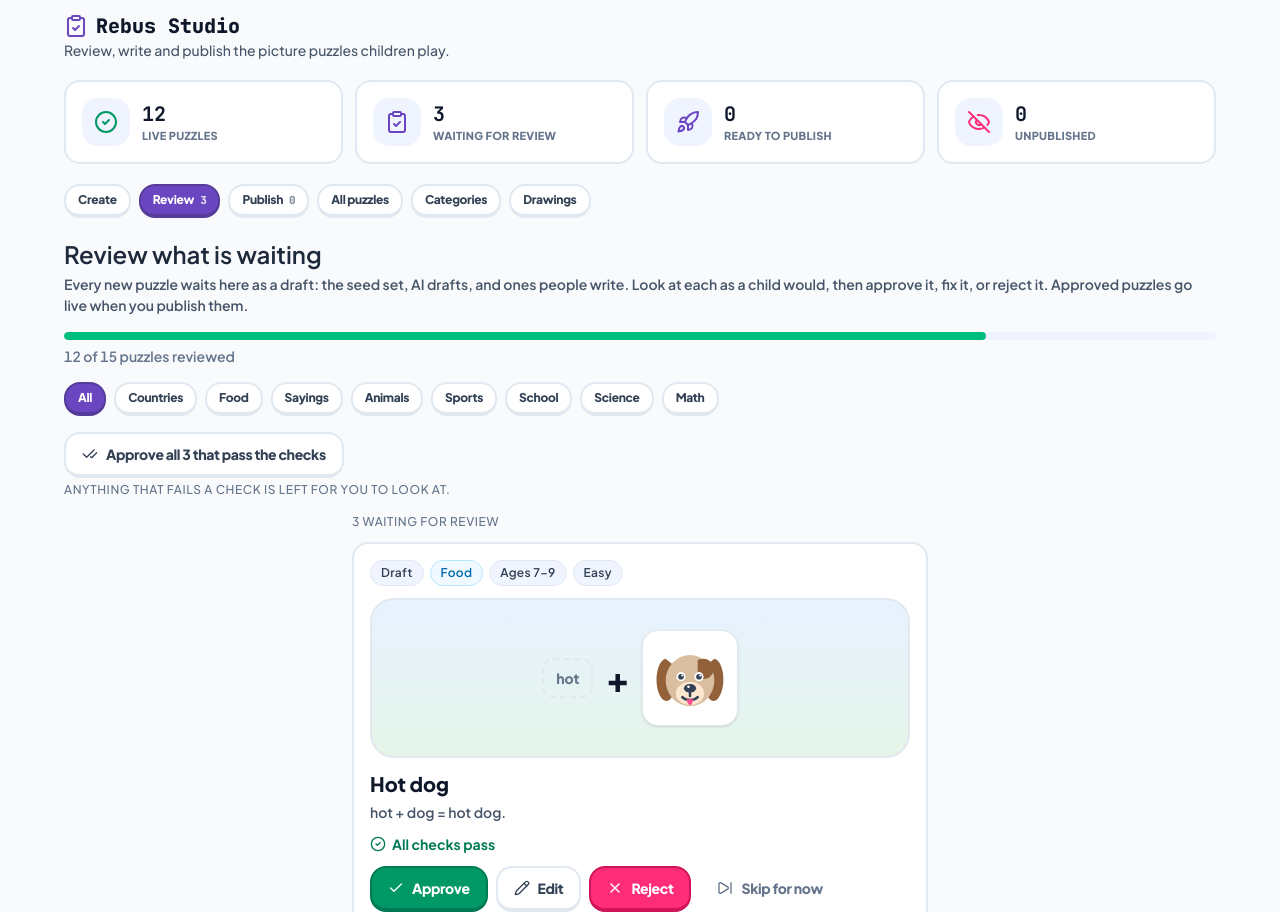
Test: reviewing what is waiting › approves a puzzle and moves to the next
The width and height of the screenshot is (1280, 912).
What coordinates should you click on to do the following:
click the button "Approve"
I would click on:
 (429, 889)
Its box is [370,866,488,911].
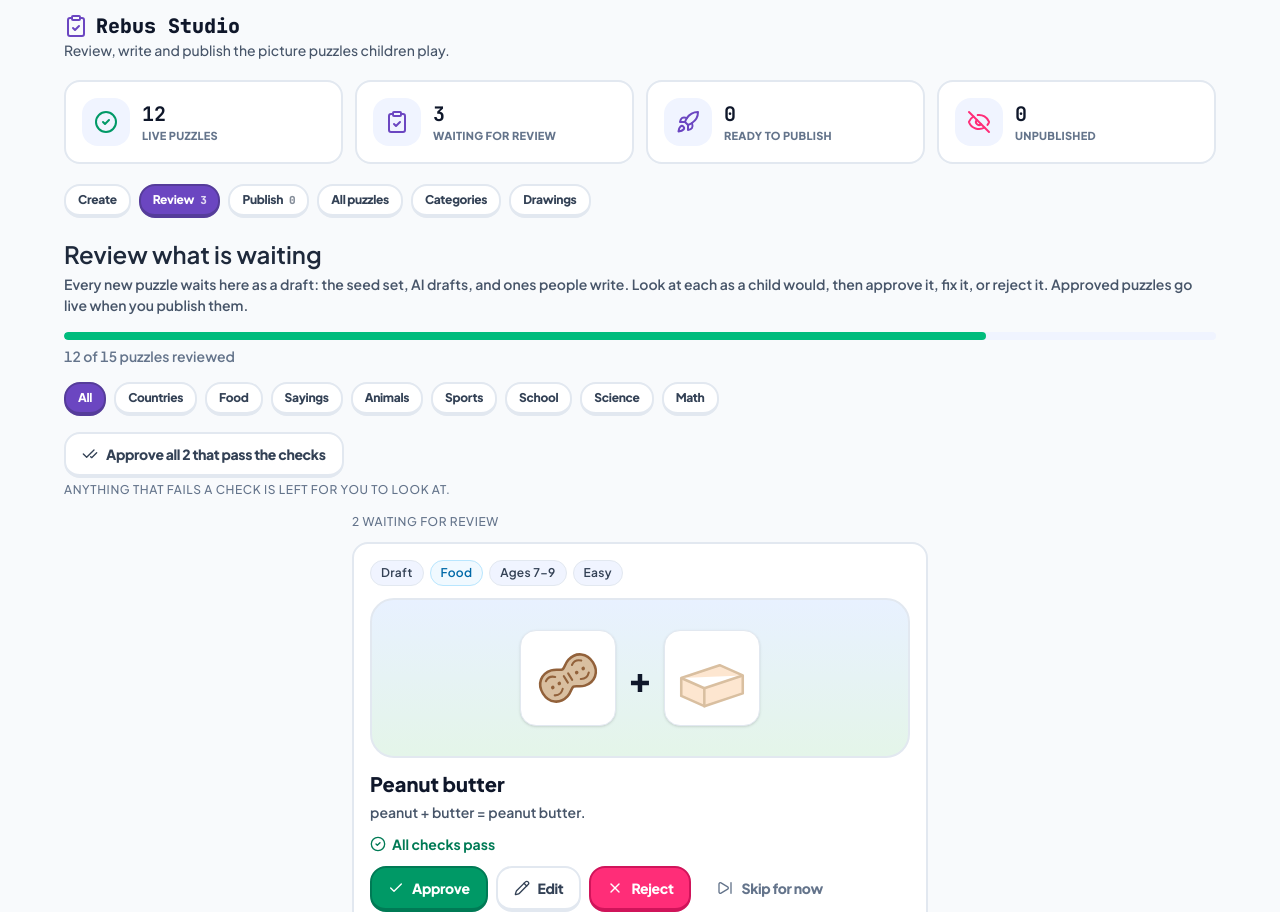
Now the text "2 waiting for review" is shown, box [352,514,499,529]
